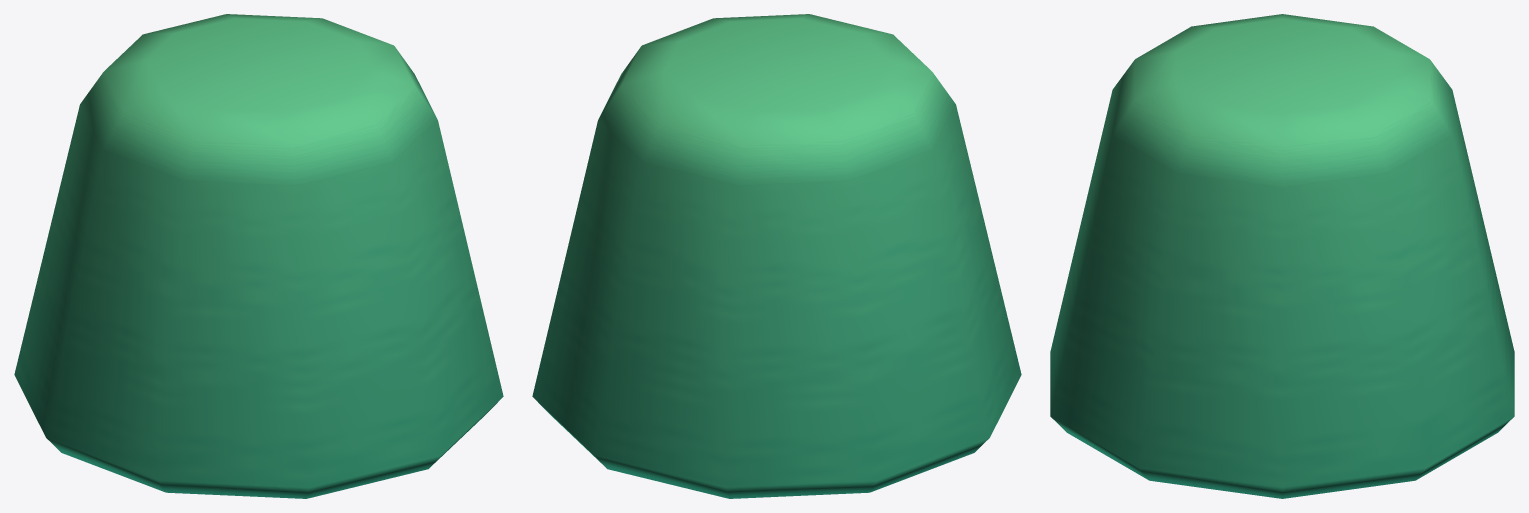
File: SM_GUMDROP_GREEN.fbx
3 renders of one model, left to right at view 1: azimuth 30°, elevation 25°; view 2: azimuth 150°, elevation 25°; view 3: azimuth 270°, elevation 25°, orthographic.
Visible parts, largest first — view 1: GUMDROP_GREEN; view 2: GUMDROP_GREEN; view 3: GUMDROP_GREEN.
Part boxes in pixels (x1,y1,x2,y2): GUMDROP_GREEN: [14, 14, 503, 498]; GUMDROP_GREEN: [532, 14, 1021, 498]; GUMDROP_GREEN: [1050, 14, 1514, 498].
Size of the model in its own units: 51.97 by 39.55 by 49.43.
1 material, 1 textured.
